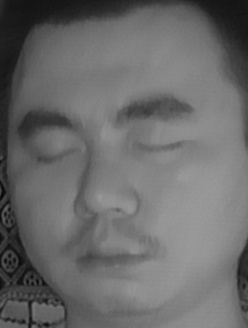blink: (132, 125, 185, 162), (29, 138, 79, 175)
mouth: (66, 228, 154, 284)
